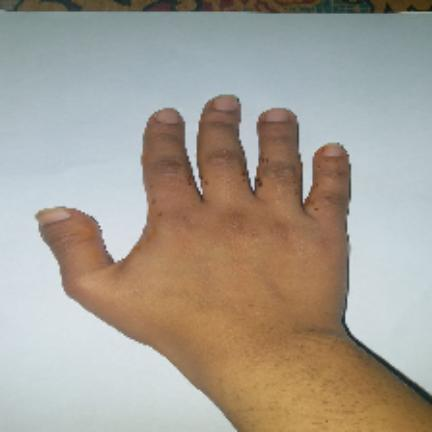Nail: (36, 208, 71, 226), (214, 95, 240, 111), (155, 109, 181, 124), (265, 108, 289, 122), (322, 143, 344, 157)
